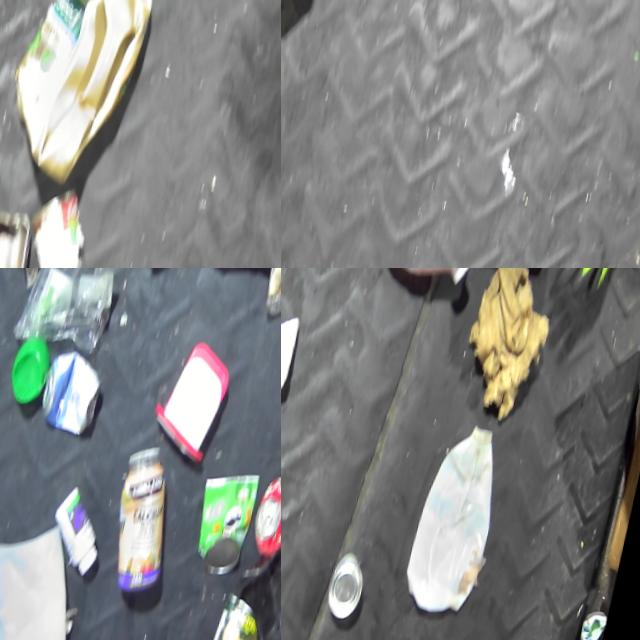can: (191, 455, 261, 574), (19, 174, 99, 268), (37, 340, 110, 436), (326, 544, 375, 623), (252, 454, 281, 558), (563, 593, 613, 640)
milk_jug: (399, 406, 516, 618), (0, 494, 99, 640)
non_white_jug: (0, 0, 167, 192)
